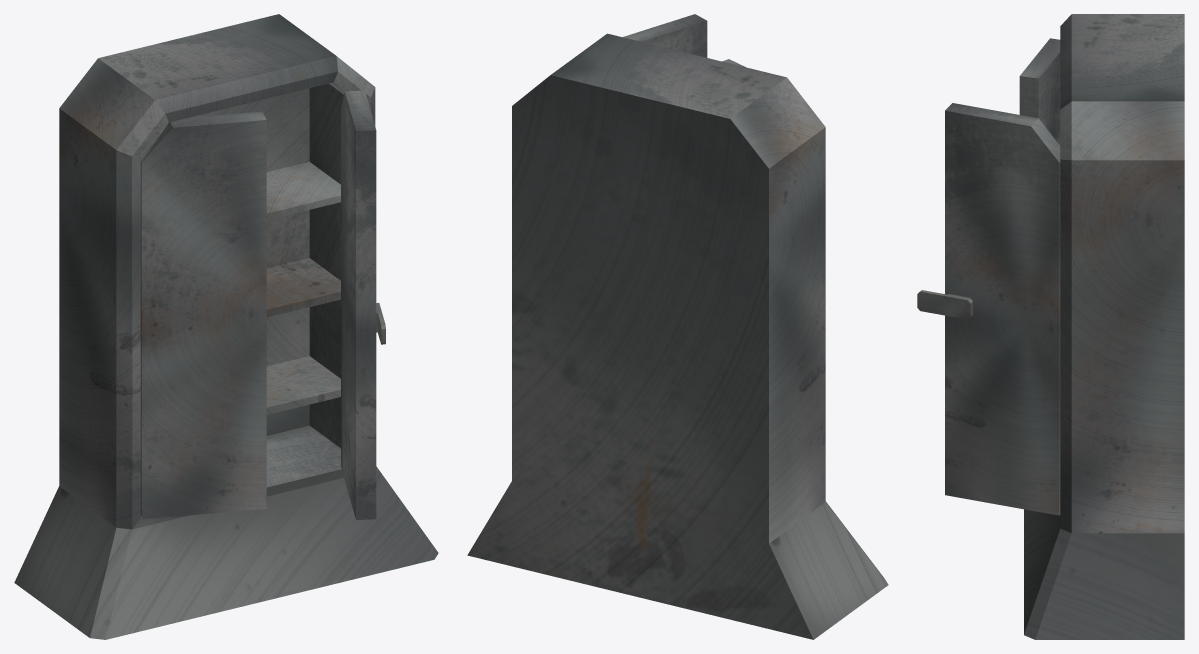
File: Cupboard.fbx
3 views of the same model, side by side, from view 1: azimuth 30°, elevation 25°; view 2: azimuth 150°, elevation 25°; view 3: azimuth 270°, elevation 25° (orthographic).
Visible parts, largest first — view 1: pCube1, pCube3, pCube4; view 2: pCube1, pCube4; view 3: pCube1, pCube4, pCube3.
Boxes of the visible parts, x1,y1,x2,y2 form: pCube1: (14, 14, 438, 639); pCube3: (140, 111, 266, 519); pCube4: (341, 90, 385, 520); pCube1: (467, 33, 888, 639); pCube4: (622, 14, 707, 57); pCube1: (1024, 14, 1184, 639); pCube4: (917, 103, 1060, 515); pCube3: (1019, 38, 1060, 145).
Bounding box in the file's own units: 8.91 × 12.31 × 5.99.
1 material, 1 textured.
